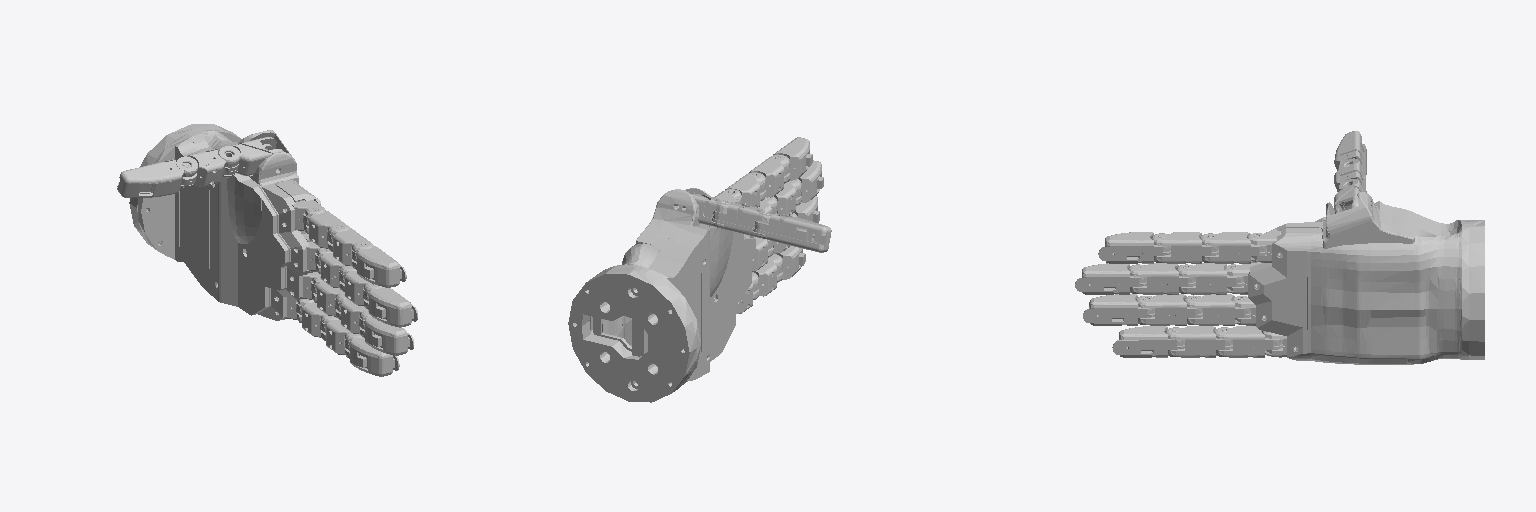
The model's file is left_hand_fixed.obj.
3 renders of one model, left to right at view 1: azimuth 30°, elevation 25°; view 2: azimuth 150°, elevation 25°; view 3: azimuth 270°, elevation 25°, orthographic.
Size of the model in its own units: 0.1442 by 0.1187 by 0.2629.